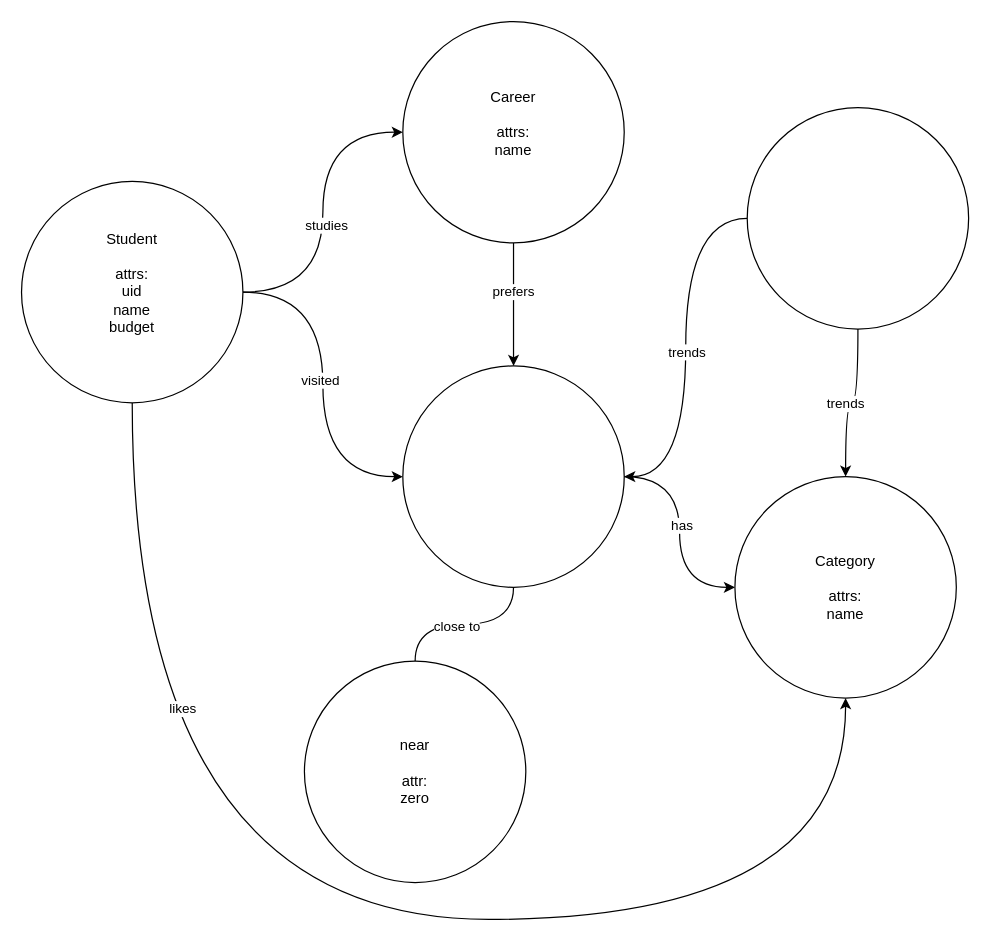
Image size: 990x941. Some labels were removed from this diagram. The centre of each missing label's shape, as x and y in pixels:
"Place attrs: name pid cost popularity distance" belongs at [513,476].
"Tag attrs: name" belongs at [857,217].
